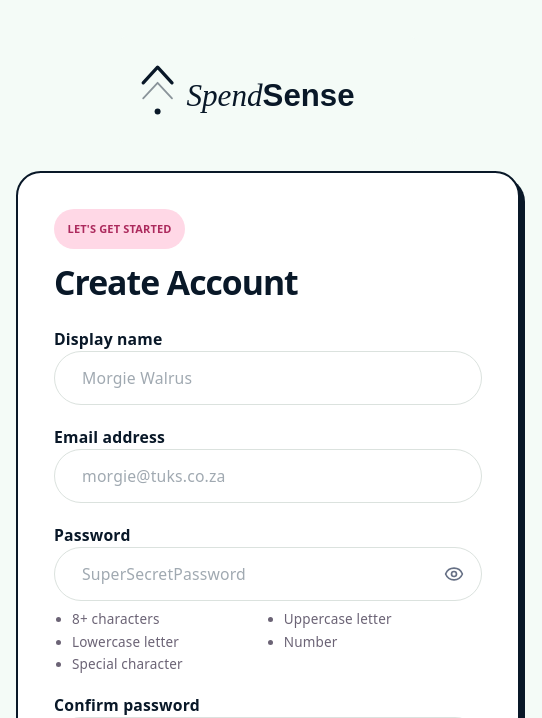
Test: RegisterPage Component › should display an error message if the passwords do not match
In the field labelled "Email address": (268,476) [54,449,482,503], type "test@example.com"
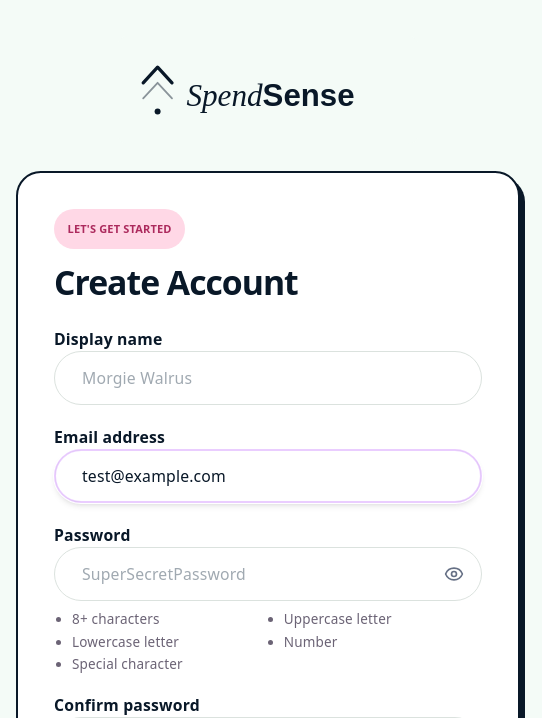
In the password field labelled "Password": (268,574) [54,547,482,601], type "SuperSecret123!"
(page scrolled)
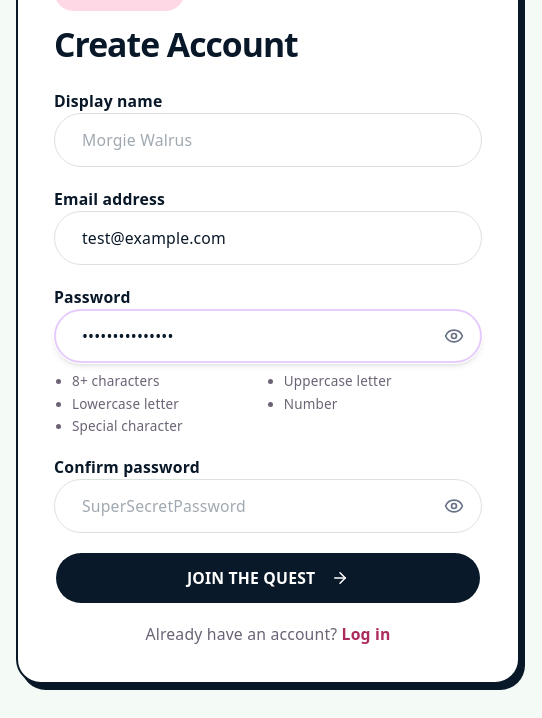
In the password field labelled "Confirm password": (268,506) [54,480,482,534], type "DifferentSecret123!"
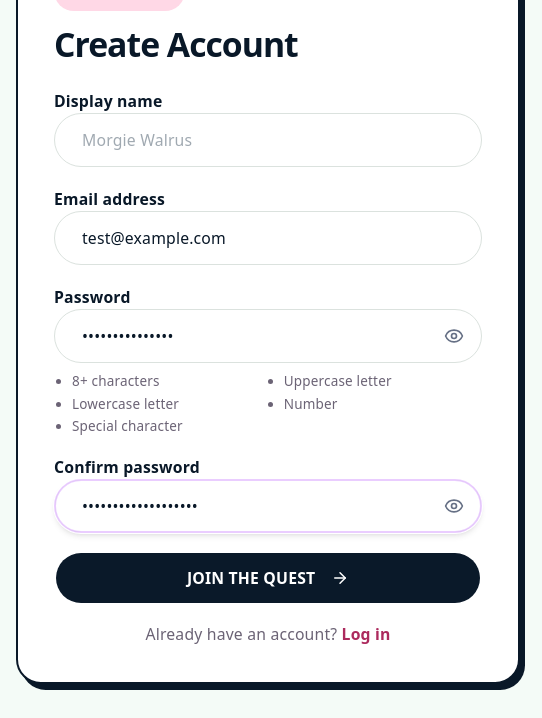
Click the button "JOIN THE QUEST": (268,578) [54,552,482,606]
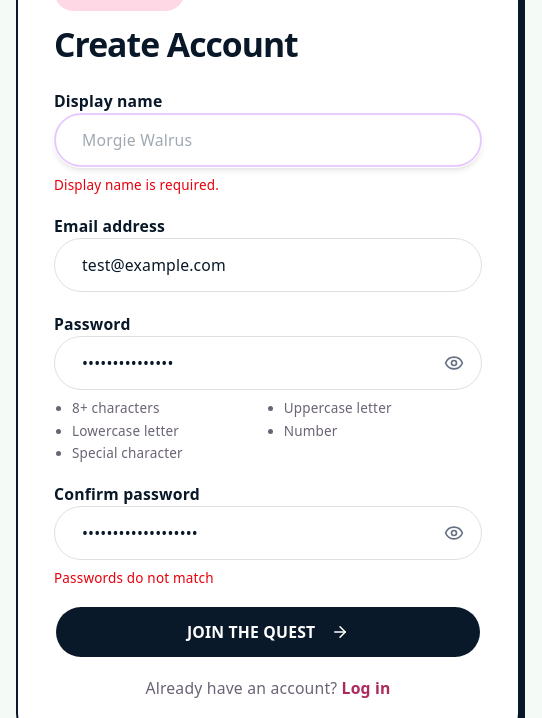
Now the text "Passwords do not match" is shown, box [54,570,214,588]
